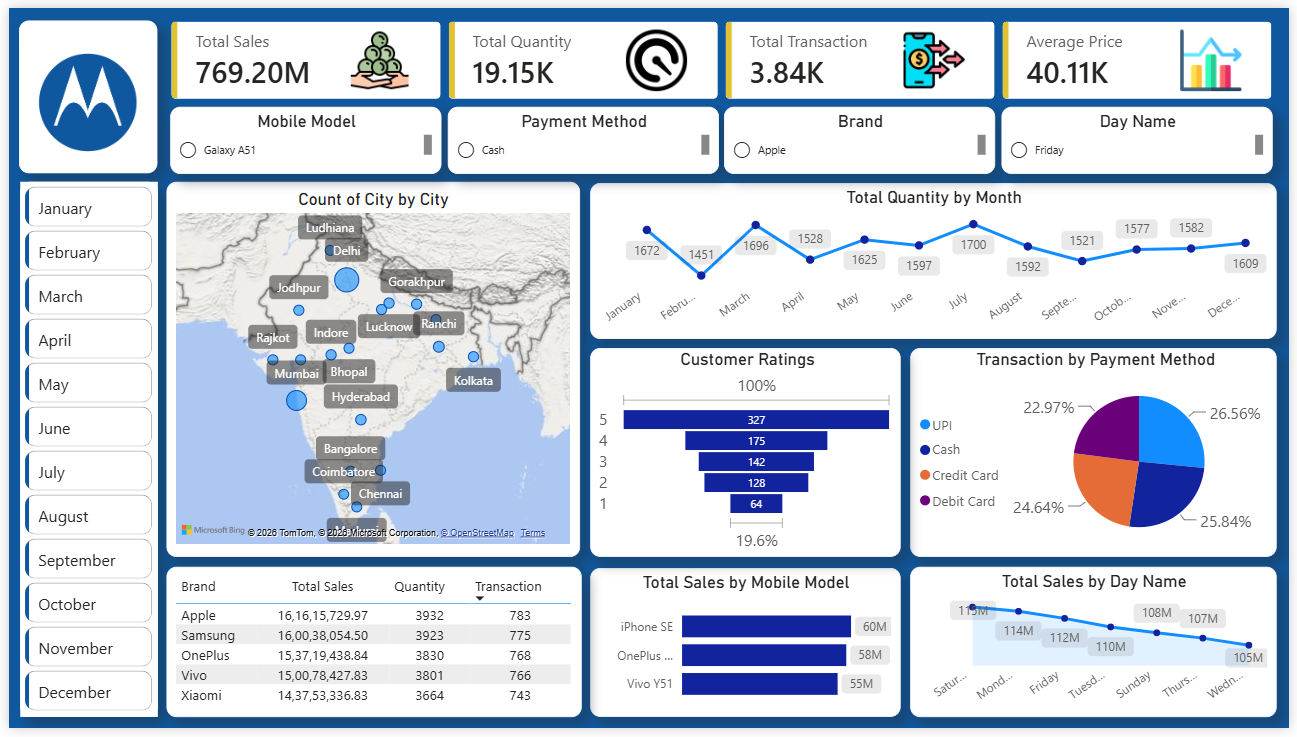

This screenshot's page, from the dashboard's own definition file:
{"tool":"powerbi","page":{"name":"Interactive Dashboard","canvas":[1280,720],"ordinal":0},"visuals":[{"type":"shape","box":[10,12.9,138.6,152.9],"z":0},{"type":"image","box":[21.4,42.9,115.7,104.3],"z":1000},{"type":"shape","box":[10.8,173.9,137.5,535],"z":2000},{"type":"advancedSlicerVisual","fields":{"Values":["Mobile Sales Data Dashboard.Date.Variation.Date Hierarchy.Month"]},"box":[10.8,173.9,137.5,535],"z":3000},{"type":"cardVisual","fields":{"Data":["Mobile Sales Data Dashboard.Total_Sales_New","Mobile Sales Data Dashboard.Total_Quantity_N","Mobile Sales Data Dashboard.Total_Transaction","Mobile Sales Data Dashboard.Average_Price"]},"box":[157,8.9,1110,87.5],"z":4000},{"type":"shape","box":[157,173.9,413.8,375],"z":5000},{"type":"map","fields":{"Size":["CountNonNull(Mobile Sales Data Dashboard.City)"],"Category":["Mobile Sales Data Dashboard.City"]},"box":[162,181.4,403.8,360],"z":6000},{"type":"lineChart","title":"Total Quantity by Month","fields":{"Y":["Mobile Sales Data Dashboard.Total_Quantity_New"],"Category":["Mobile Sales Data Dashboard.Date.Variation.Date Hierarchy.Month","Mobile Sales Data Dashboard.Date.Variation.Date Hierarchy.Day"]},"box":[580.8,175.2,686.2,156.2],"z":7000},{"type":"clusteredBarChart","title":"Total Sales by Mobile Model","fields":{"Category":["Mobile Sales Data Dashboard.Mobile Model"],"Y":["Mobile Sales Data Dashboard.Total_Sales_New"]},"box":[580.8,560.2,310,148.8],"z":8000},{"type":"pieChart","title":"Transaction by Payment Method","fields":{"Y":["Mobile Sales Data Dashboard.Total_Transaction"],"Category":["Mobile Sales Data Dashboard.Payment Method"]},"box":[900.8,340.2,366.2,208.8],"z":9000},{"type":"funnel","title":"Customer Ratings","fields":{"Category":["Mobile Sales Data Dashboard.Customer Ratings"],"Y":["CountNonNull(Mobile Sales Data Dashboard.Customer Ratings)"]},"box":[580.8,340.2,310,208.8],"z":10000},{"type":"areaChart","title":"Total Sales by Day Name","fields":{"Y":["Mobile Sales Data Dashboard.Total_Sales_New"],"Category":["Mobile Sales Data Dashboard.Day Name"]},"box":[900.8,558.9,366.2,150],"z":11000},{"type":"tableEx","fields":{"Values":["Mobile Sales Data Dashboard.Brand","Mobile Sales Data Dashboard.Total_Sales_New","Mobile Sales Data Dashboard.Total_Quantity_New","Mobile Sales Data Dashboard.Total_Transaction"]},"box":[157,558.9,415,150],"z":12000},{"type":"listSlicer","fields":{"Values":["Mobile Sales Data Dashboard.Mobile Model"]},"box":[160.8,98.9,271.2,67.5],"z":13000},{"type":"listSlicer","fields":{"Values":["Mobile Sales Data Dashboard.Payment Method"]},"box":[438.3,98.9,271.2,67.5],"z":14000},{"type":"listSlicer","fields":{"Values":["Mobile Sales Data Dashboard.Brand"]},"box":[714.5,98.9,271.2,67.5],"z":15000},{"type":"listSlicer","fields":{"Values":["Mobile Sales Data Dashboard.Day Name"]},"box":[992,98.9,271.2,67.5],"z":16000}]}

Visuals, with their boxes in screenshot pixels (x1, y1, x2, y2), scaled from the page's 1280x720 canvas onto the 1297x737 screenshot:
shape: {"x1": 10, "y1": 13, "x2": 151, "y2": 170}
image: {"x1": 22, "y1": 44, "x2": 139, "y2": 151}
shape: {"x1": 11, "y1": 178, "x2": 150, "y2": 726}
advancedSlicerVisual - Mobile Sales Data Dashboard.Date.Variation.Date Hierarchy.Month: {"x1": 11, "y1": 178, "x2": 150, "y2": 726}
cardVisual - Mobile Sales Data Dashboard.Total_Sales_New x Mobile Sales Data Dashboard.Total_Quantity_N: {"x1": 159, "y1": 9, "x2": 1284, "y2": 99}
shape: {"x1": 159, "y1": 178, "x2": 578, "y2": 562}
map - CountNonNull(Mobile Sales Data Dashboard.City) x Mobile Sales Data Dashboard.City: {"x1": 164, "y1": 186, "x2": 573, "y2": 554}
"Total Quantity by Month" lineChart: {"x1": 589, "y1": 179, "x2": 1284, "y2": 339}
"Total Sales by Mobile Model" clusteredBarChart: {"x1": 589, "y1": 573, "x2": 903, "y2": 726}
"Transaction by Payment Method" pieChart: {"x1": 913, "y1": 348, "x2": 1284, "y2": 562}
"Customer Ratings" funnel: {"x1": 589, "y1": 348, "x2": 903, "y2": 562}
"Total Sales by Day Name" areaChart: {"x1": 913, "y1": 572, "x2": 1284, "y2": 726}
tableEx - Mobile Sales Data Dashboard.Brand x Mobile Sales Data Dashboard.Total_Sales_New: {"x1": 159, "y1": 572, "x2": 580, "y2": 726}
listSlicer - Mobile Sales Data Dashboard.Mobile Model: {"x1": 163, "y1": 101, "x2": 438, "y2": 170}
listSlicer - Mobile Sales Data Dashboard.Payment Method: {"x1": 444, "y1": 101, "x2": 719, "y2": 170}
listSlicer - Mobile Sales Data Dashboard.Brand: {"x1": 724, "y1": 101, "x2": 999, "y2": 170}
listSlicer - Mobile Sales Data Dashboard.Day Name: {"x1": 1005, "y1": 101, "x2": 1280, "y2": 170}
